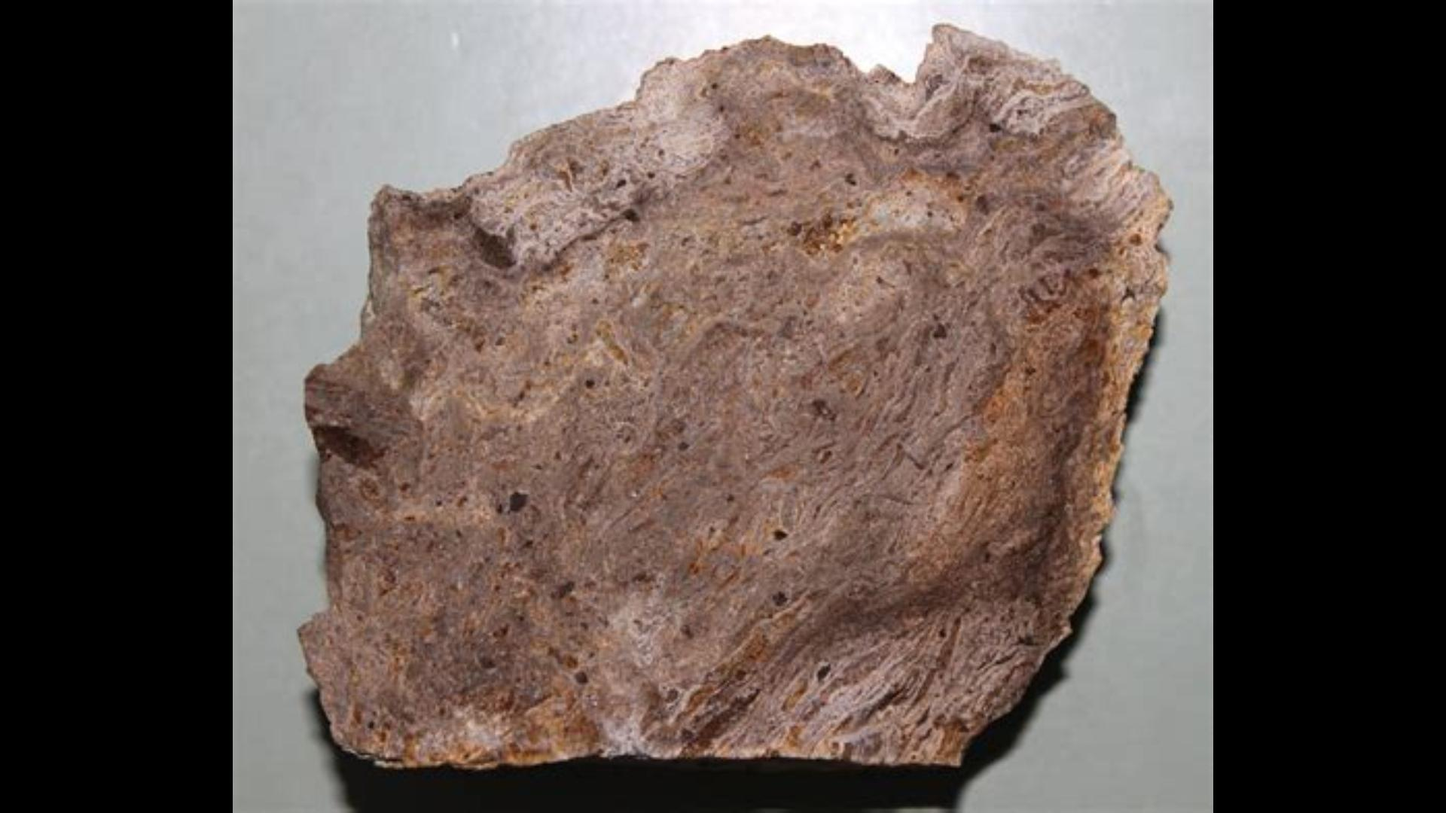rock: (303, 27, 1168, 765)
